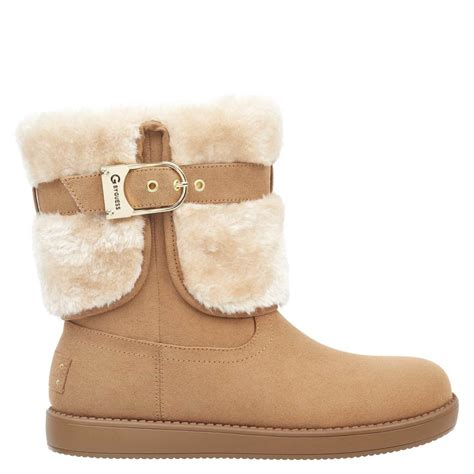gamuza: (47, 314, 452, 429)
